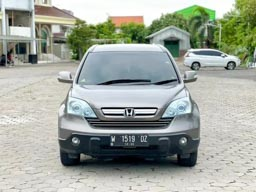plat: (108, 134, 148, 142)
